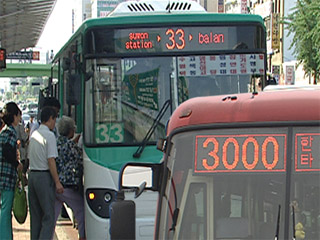bnum: (93, 122, 125, 144)
